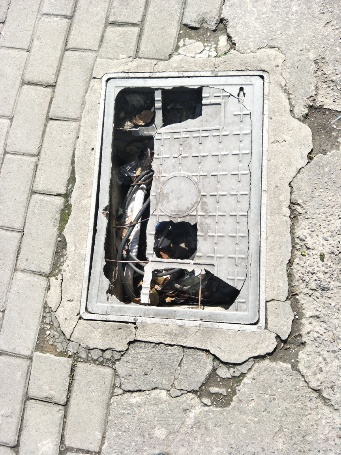broke: (80, 70, 269, 328)
